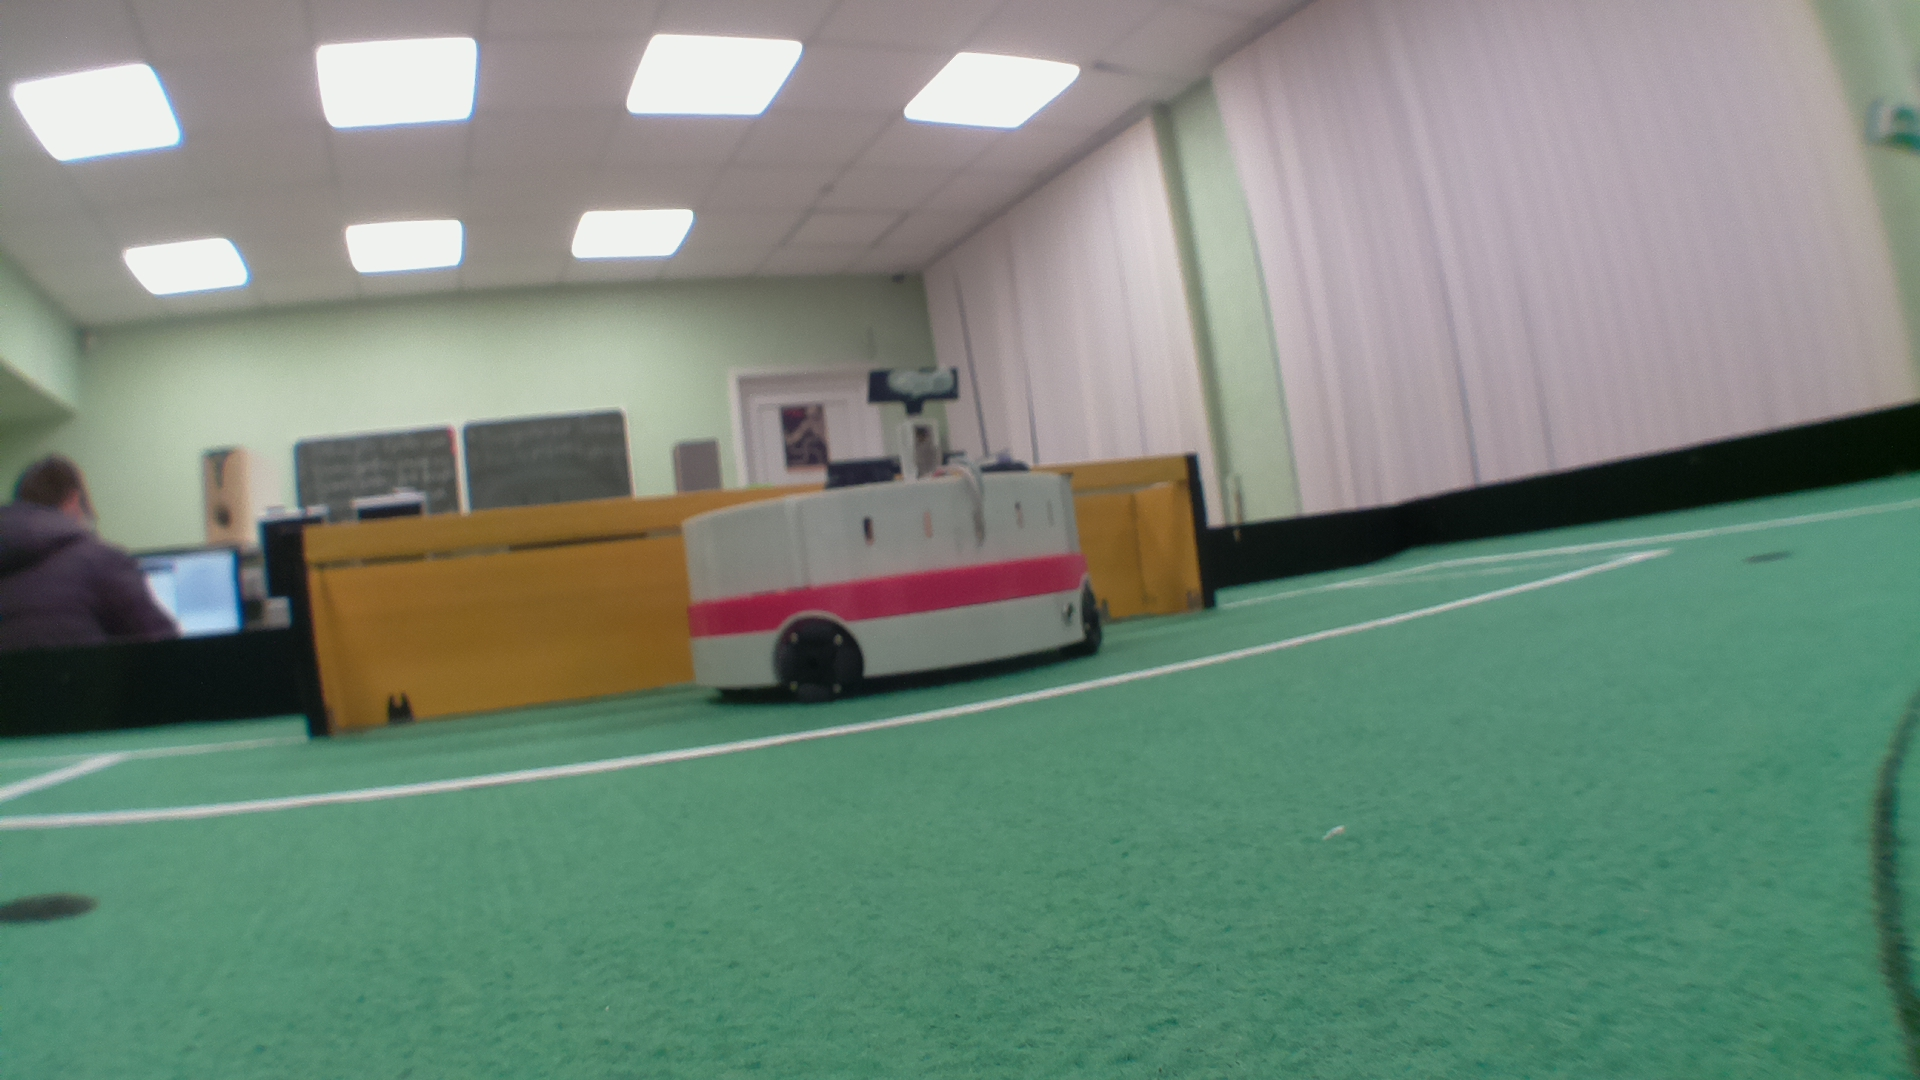YellowGoal: (299, 454, 1207, 735)
